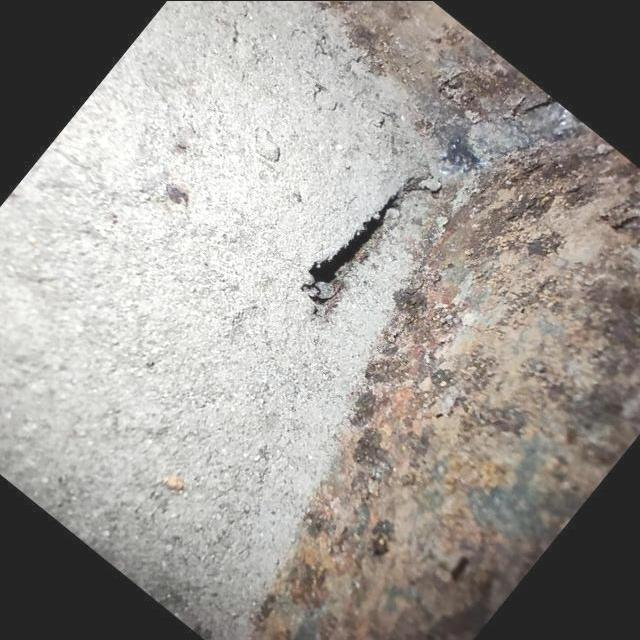defect: (301, 170, 447, 309)
